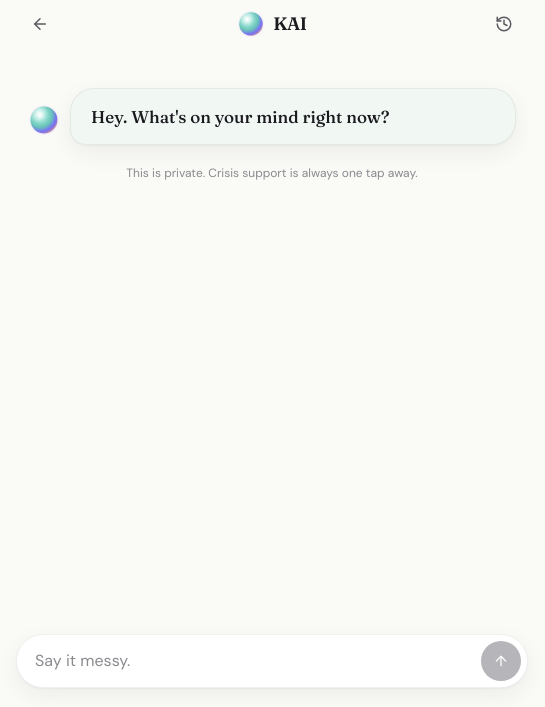
Scenario: Chat — model-unavailable error state › shows an honest retry state instead of a fabricated reply when the model is down
This screenshot has width=545, height=707.
Type "I can't sleep" into the text box with placeholder "Say it messy.".
click(248, 661); type("I can't sleep")  # box [23,641,473,681]
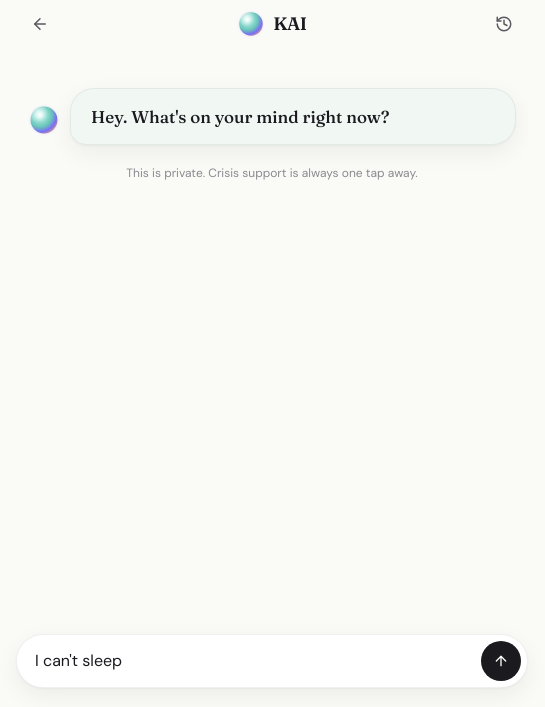
Click the button named "Send".
click(501, 661)  # box [481,641,521,681]
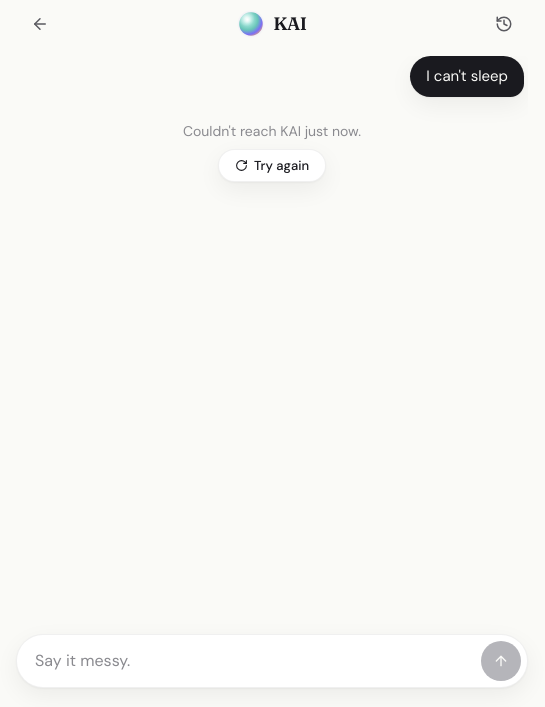
Result: the text "Couldn't reach KAI just now." is shown at [183,121,361,141]
Result: the button "Try again" is shown at [218,149,326,182]
Result: the text "I can't sleep" is shown at [426,66,508,87]
